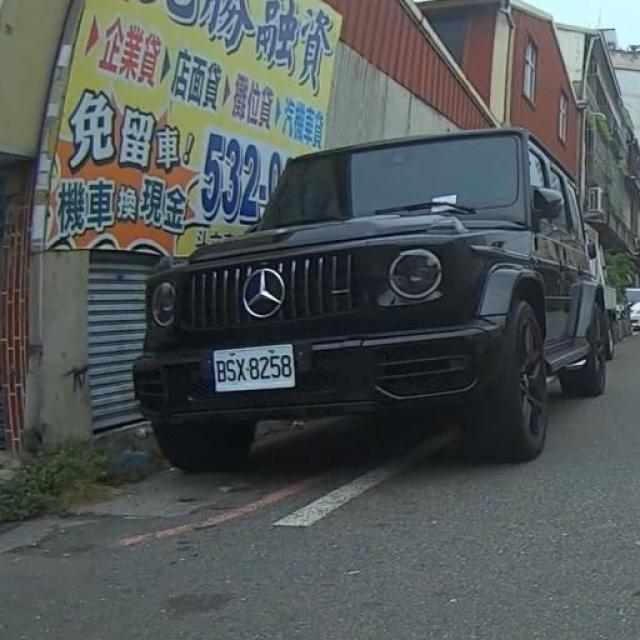illegalparking: (109, 70, 636, 516)
